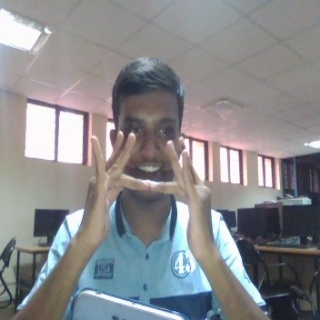Internet: (80, 131, 215, 268)
